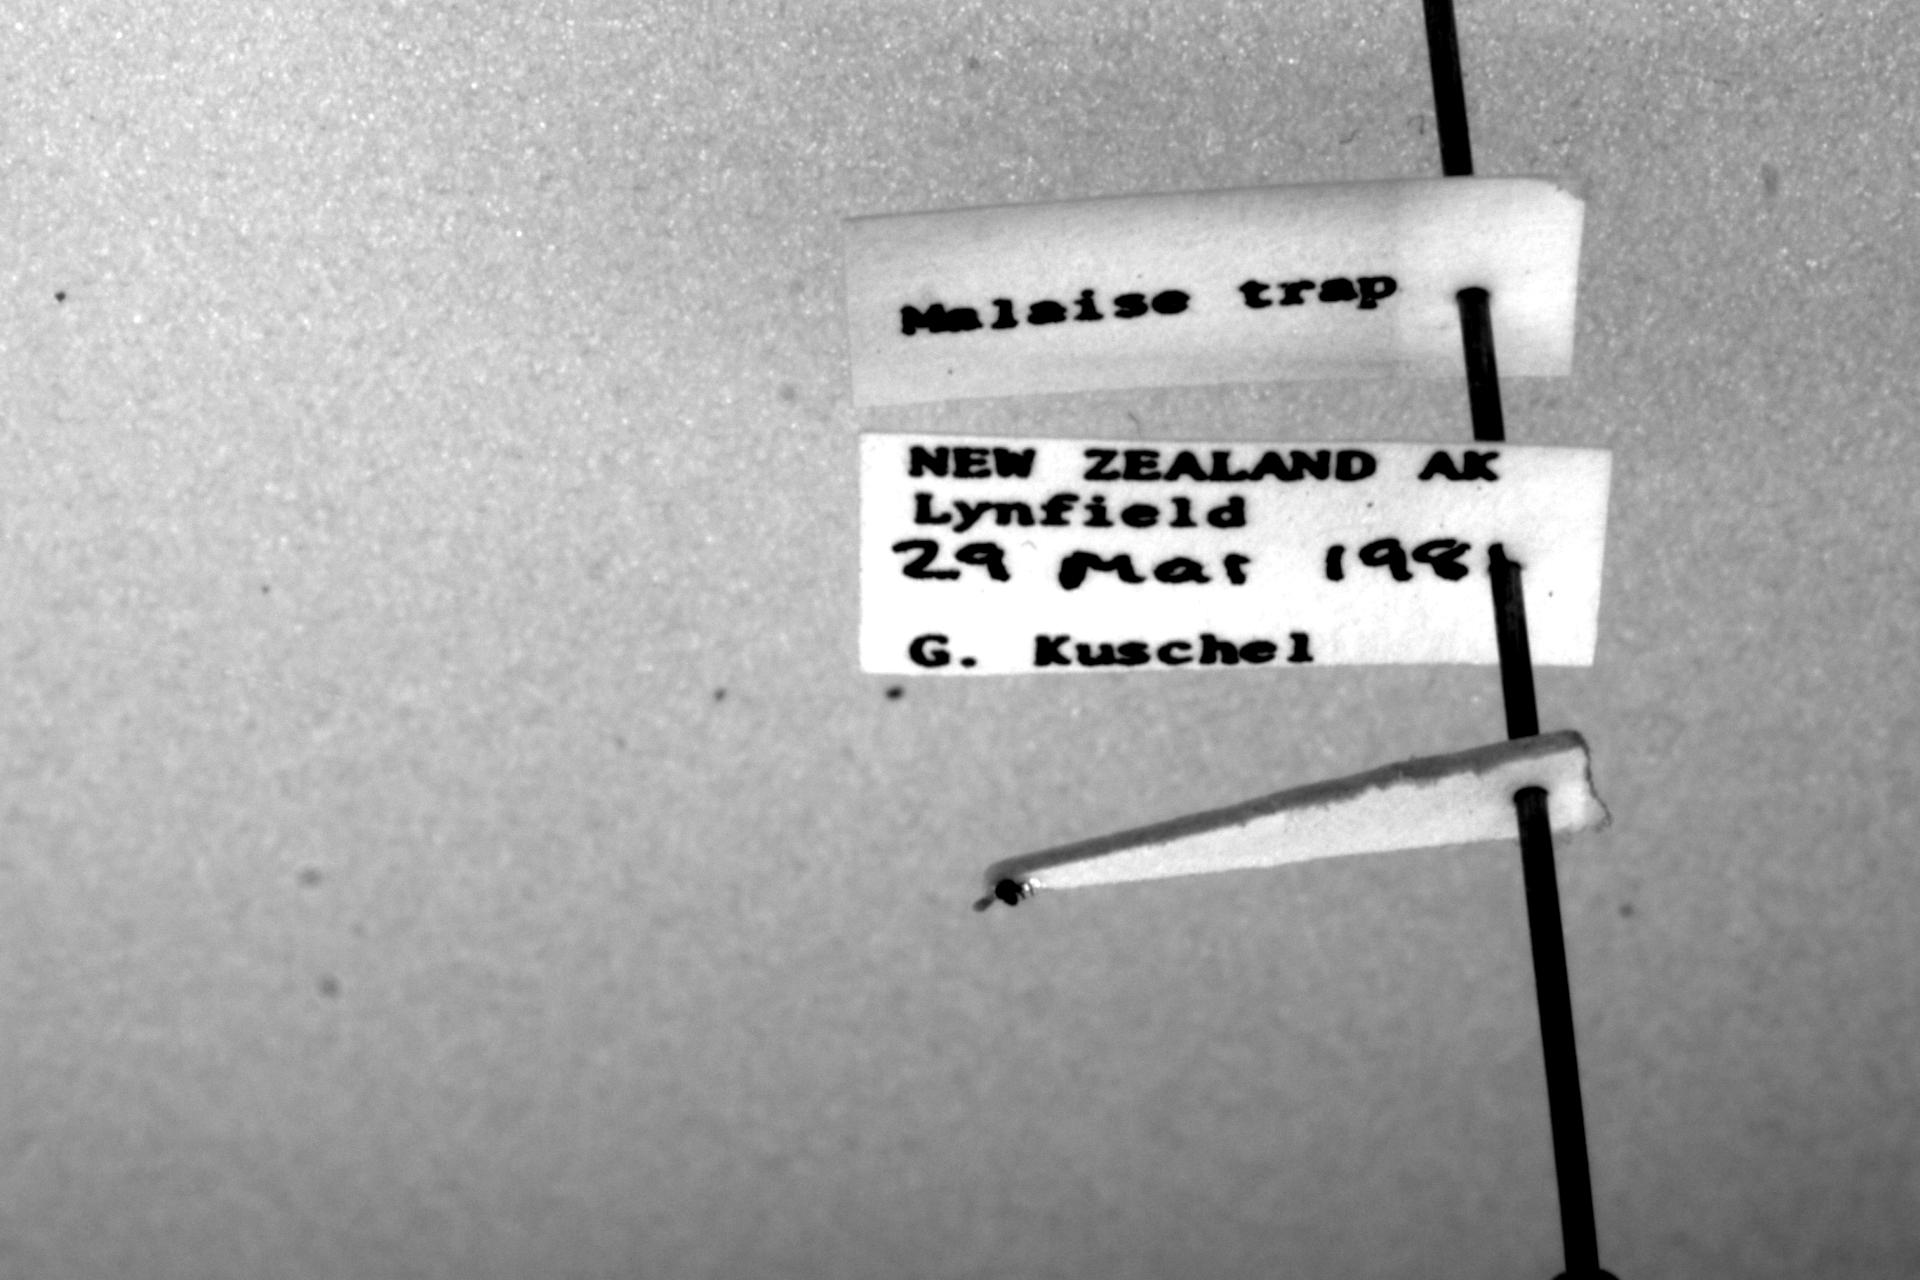hand_label: (844, 176, 1586, 406)
mixed_label: (859, 434, 1613, 674)
